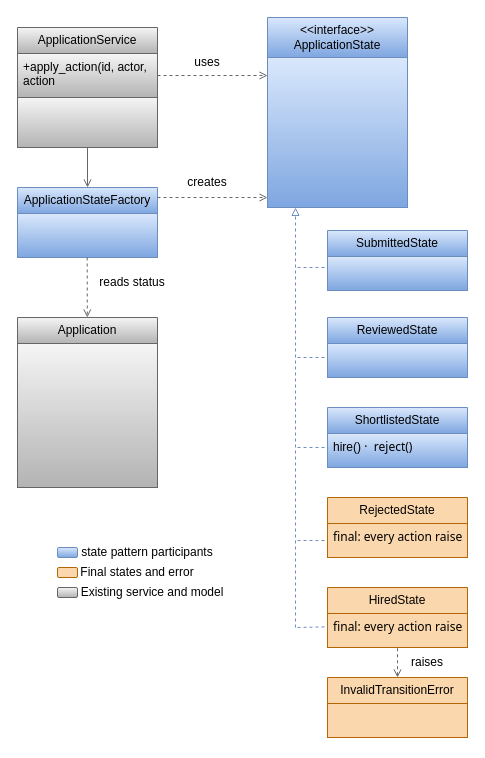
Image size: 485x758. Some labels were removed from this diagram. Here are the shapes that lost their labels. From the top down, the centre of each, then its label:
At (87,122): "-is_owner(actor, listing".
At (337,132): "+review(app) +shortlist(app) +reject(app) +hire(app) +name: str".
At (87,235): "+from_status(status)".
At (397,273): "review() → Reviewed".
At (397,360): "shortlist() · reject()".
At (87,415): "+id: int +status: str + listing_id: int +cover_letter: str +resume: str".
At (397,720): "mapped to HTTP 409".
